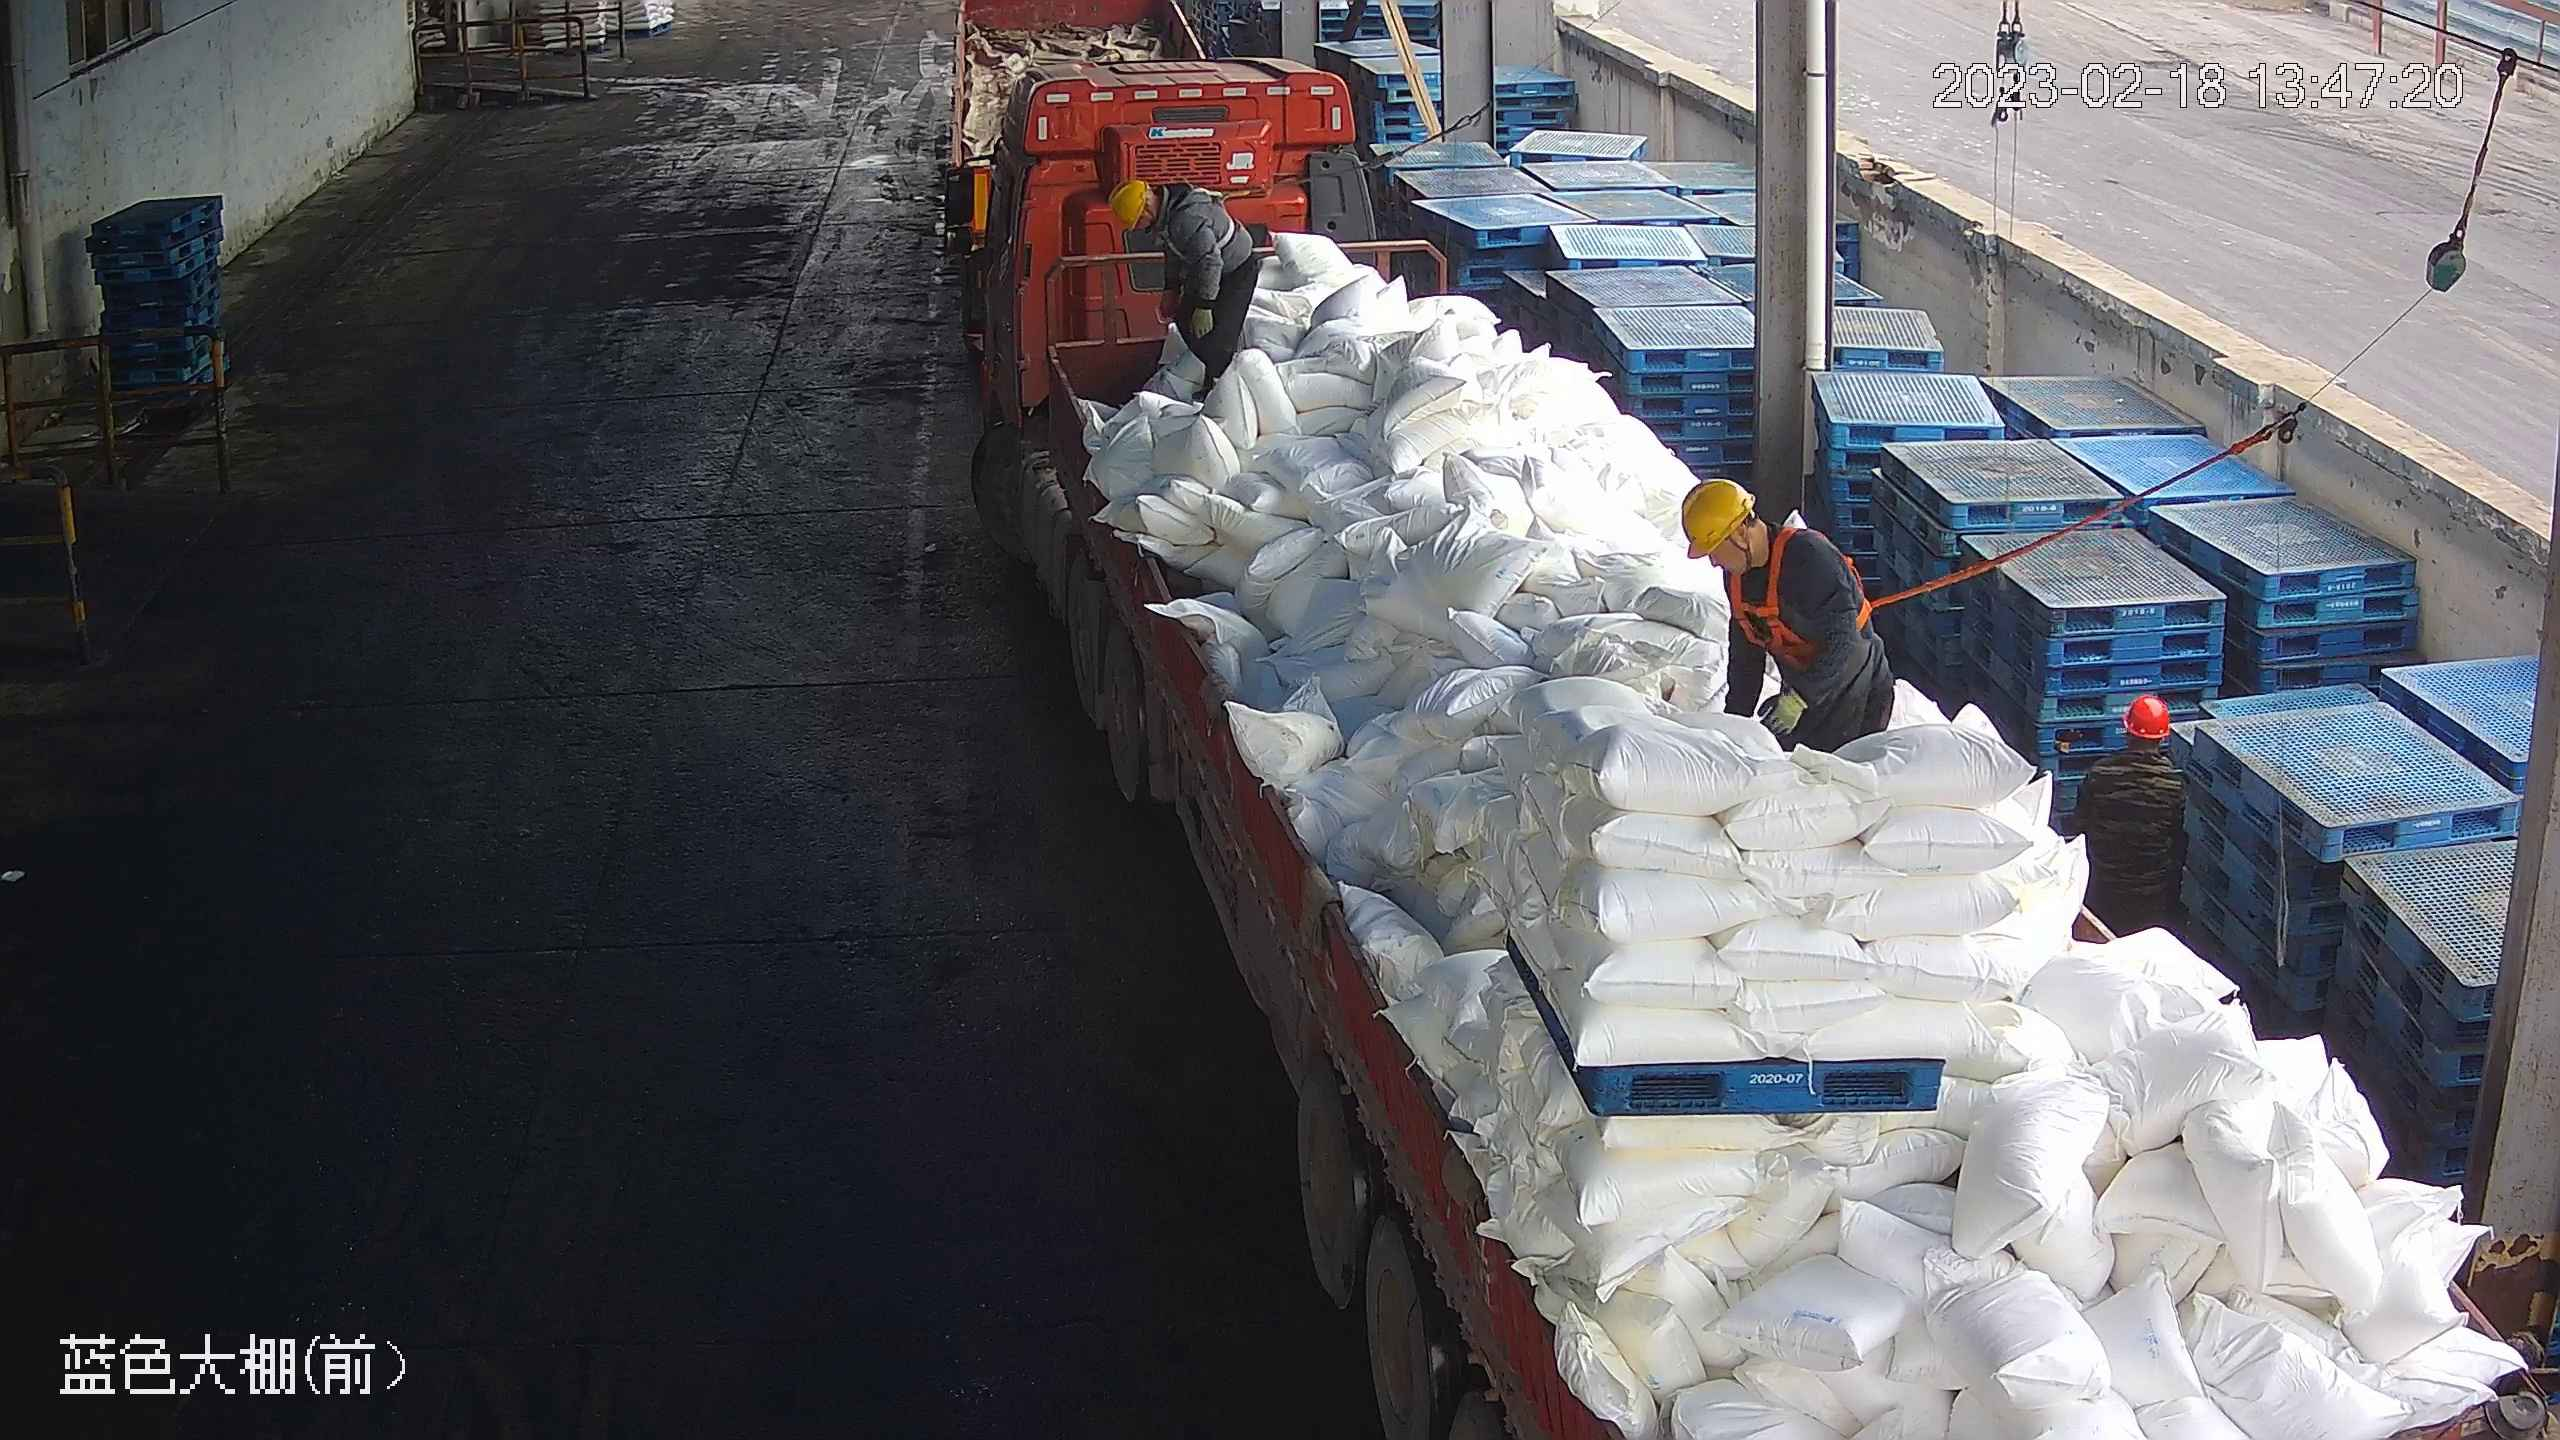belt: (1727, 521, 1889, 667), (1159, 174, 1241, 247)
head: (1678, 476, 1847, 615), (2085, 688, 2185, 804), (1108, 173, 1215, 252)
helmet: (1676, 477, 1755, 560), (2121, 690, 2174, 739), (1109, 175, 1150, 229)
people: (1677, 475, 1899, 756), (922, 5, 1246, 185), (1107, 170, 1269, 400), (2062, 689, 2192, 948)
truck: (961, 101, 2555, 1440)
